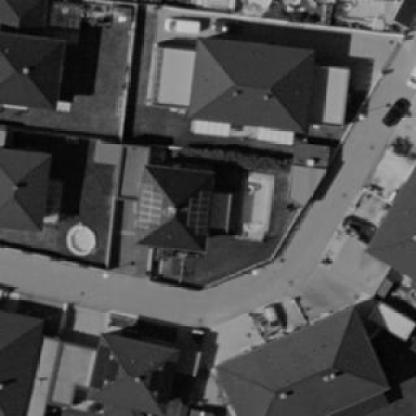solar-pv-panel: (90, 347, 119, 388), (150, 361, 177, 405), (187, 191, 212, 234), (139, 184, 162, 229)
